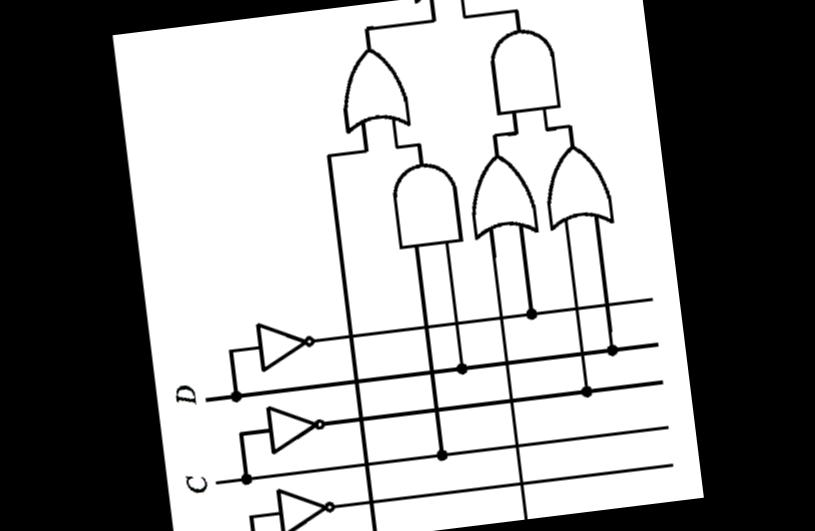and: (473, 13, 576, 127), (374, 150, 472, 268)
not: (239, 305, 326, 381), (252, 392, 337, 466), (262, 473, 349, 531)
or: (325, 33, 425, 144), (531, 128, 622, 248), (454, 137, 545, 255)
